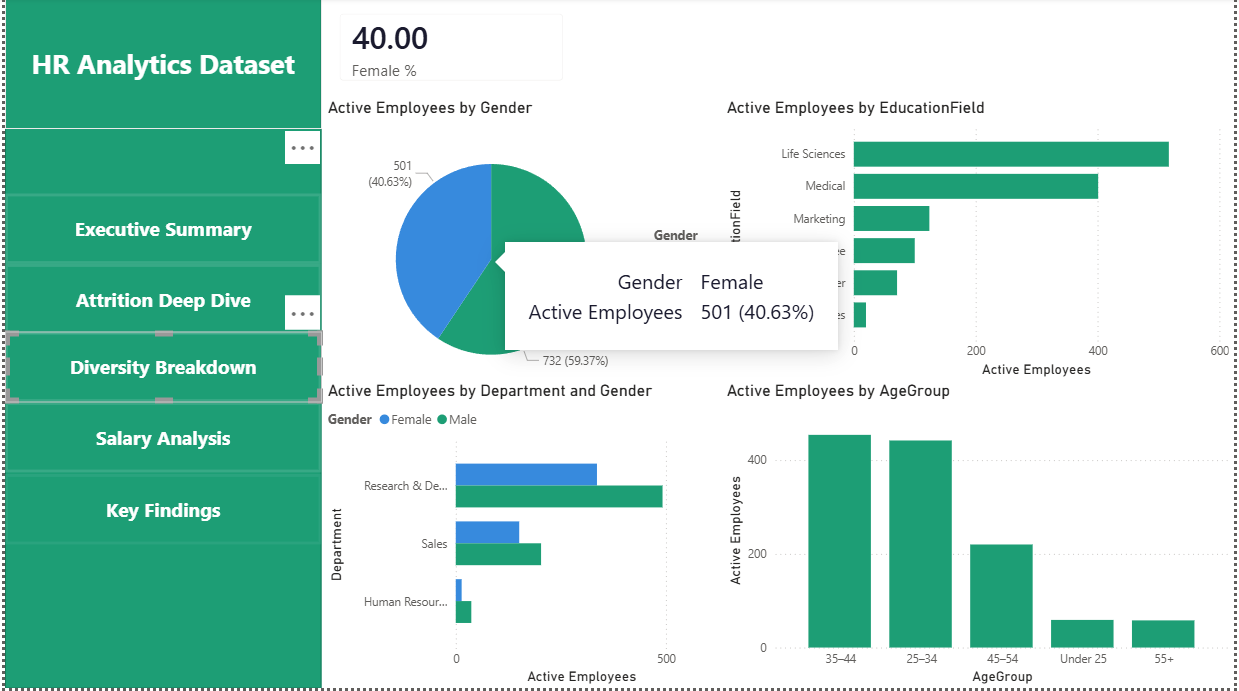

The dashboard page shown, as its layout file describes it:
{"tool":"powerbi","page":{"name":"Diversity Breakdown","canvas":[1280,720],"ordinal":2},"visuals":[{"type":"pieChart","fields":{"Category":["Employee_Demographics.Gender"],"Y":["_Measures (2).Active Employees"]},"box":[331.4,104.7,415.8,317.3],"z":0},{"type":"clusteredBarChart","fields":{"Category":["Employee_Demographics.EducationField"],"Y":["_Measures (2).Active Employees"]},"box":[747.1,104.7,533,295.4],"z":1000},{"type":"clusteredBarChart","fields":{"Category":["Employee_JobInfo.Department"],"Y":["_Measures (2).Active Employees"],"Series":["Employee_Demographics.Gender"]},"box":[331.4,400.1,415.8,320.4],"z":2000},{"type":"clusteredColumnChart","fields":{"Category":["Employee_Demographics.AgeGroup"],"Y":["_Measures (2).Active Employees"]},"box":[747.1,400.1,533,320.4],"z":3000},{"type":"cardVisual","fields":{"Data":["_Measures (2).Female %"]},"box":[331.4,0,267.3,104.7],"z":4000},{"type":"shape","box":[0,0,329.8,720.5],"z":5000},{"type":"actionButton","box":[0,204.8,329.8,73.5],"z":6000},{"type":"actionButton","box":[0,278.2,329.8,73.5],"z":7000},{"type":"actionButton","box":[0,348.5,329.8,73.5],"z":8000},{"type":"actionButton","box":[0,422,329.8,73.5],"z":9000},{"type":"actionButton","box":[0,0,329.8,137.5],"z":10000},{"type":"actionButton","box":[0,497,329.8,73.5],"z":11000}]}

Visuals, with their boxes on the page's 1280x720 design canvas (x1, y1, x2, y2). These are canvas units, not pixel positions in the 1239x691 screenshot, which may show the page scaled, cropped or inside an application window:
pieChart - Employee_Demographics.Gender x _Measures (2).Active Employees: bbox(331, 105, 747, 422)
clusteredBarChart - Employee_Demographics.EducationField x _Measures (2).Active Employees: bbox(747, 105, 1280, 400)
clusteredBarChart - Employee_JobInfo.Department x _Measures (2).Active Employees: bbox(331, 400, 747, 720)
clusteredColumnChart - Employee_Demographics.AgeGroup x _Measures (2).Active Employees: bbox(747, 400, 1280, 720)
cardVisual - _Measures (2).Female %: bbox(331, 0, 599, 105)
shape: bbox(0, 0, 330, 720)
actionButton: bbox(0, 205, 330, 278)
actionButton: bbox(0, 278, 330, 352)
actionButton: bbox(0, 348, 330, 422)
actionButton: bbox(0, 422, 330, 496)
actionButton: bbox(0, 0, 330, 138)
actionButton: bbox(0, 497, 330, 570)
